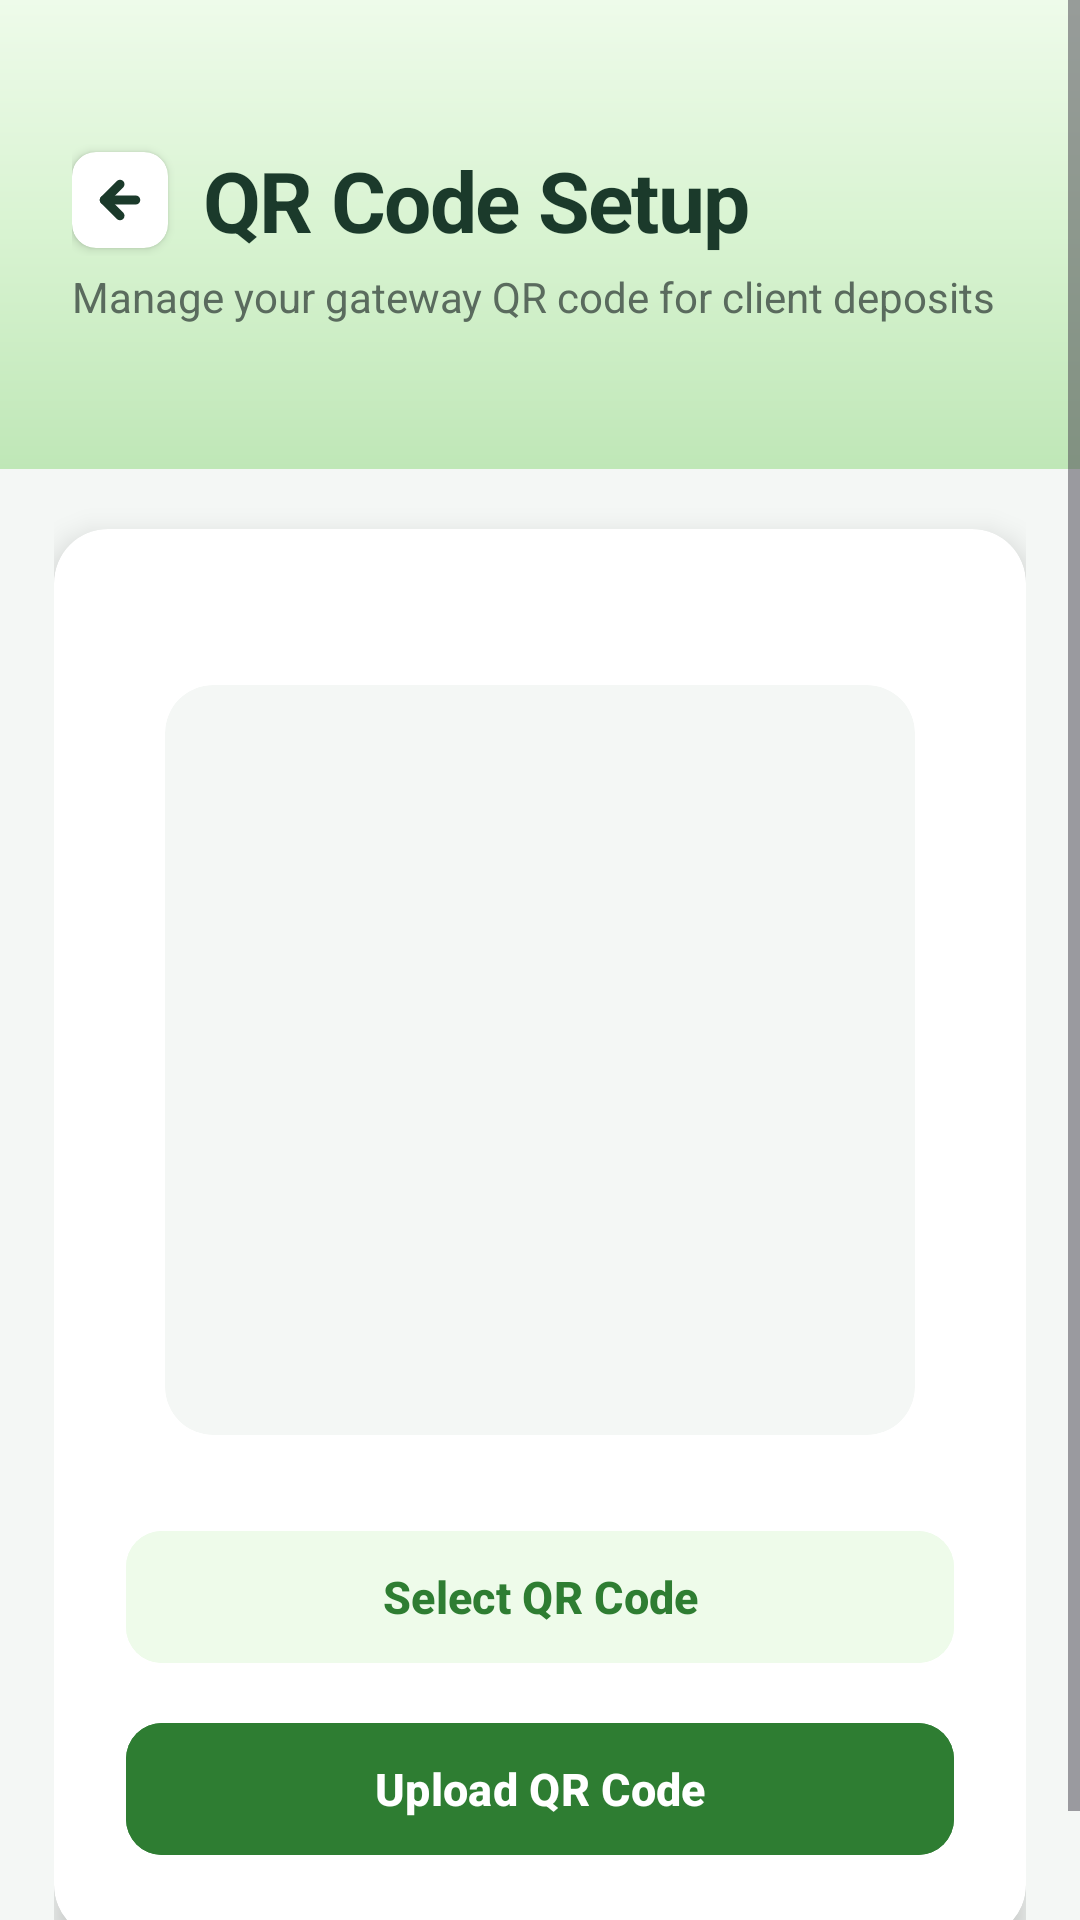

Icon bounding boxes for this 1080px×1920px phone screenshot, format [x1,y1,x2,y2]:
Go Back: [99,179,141,221]
